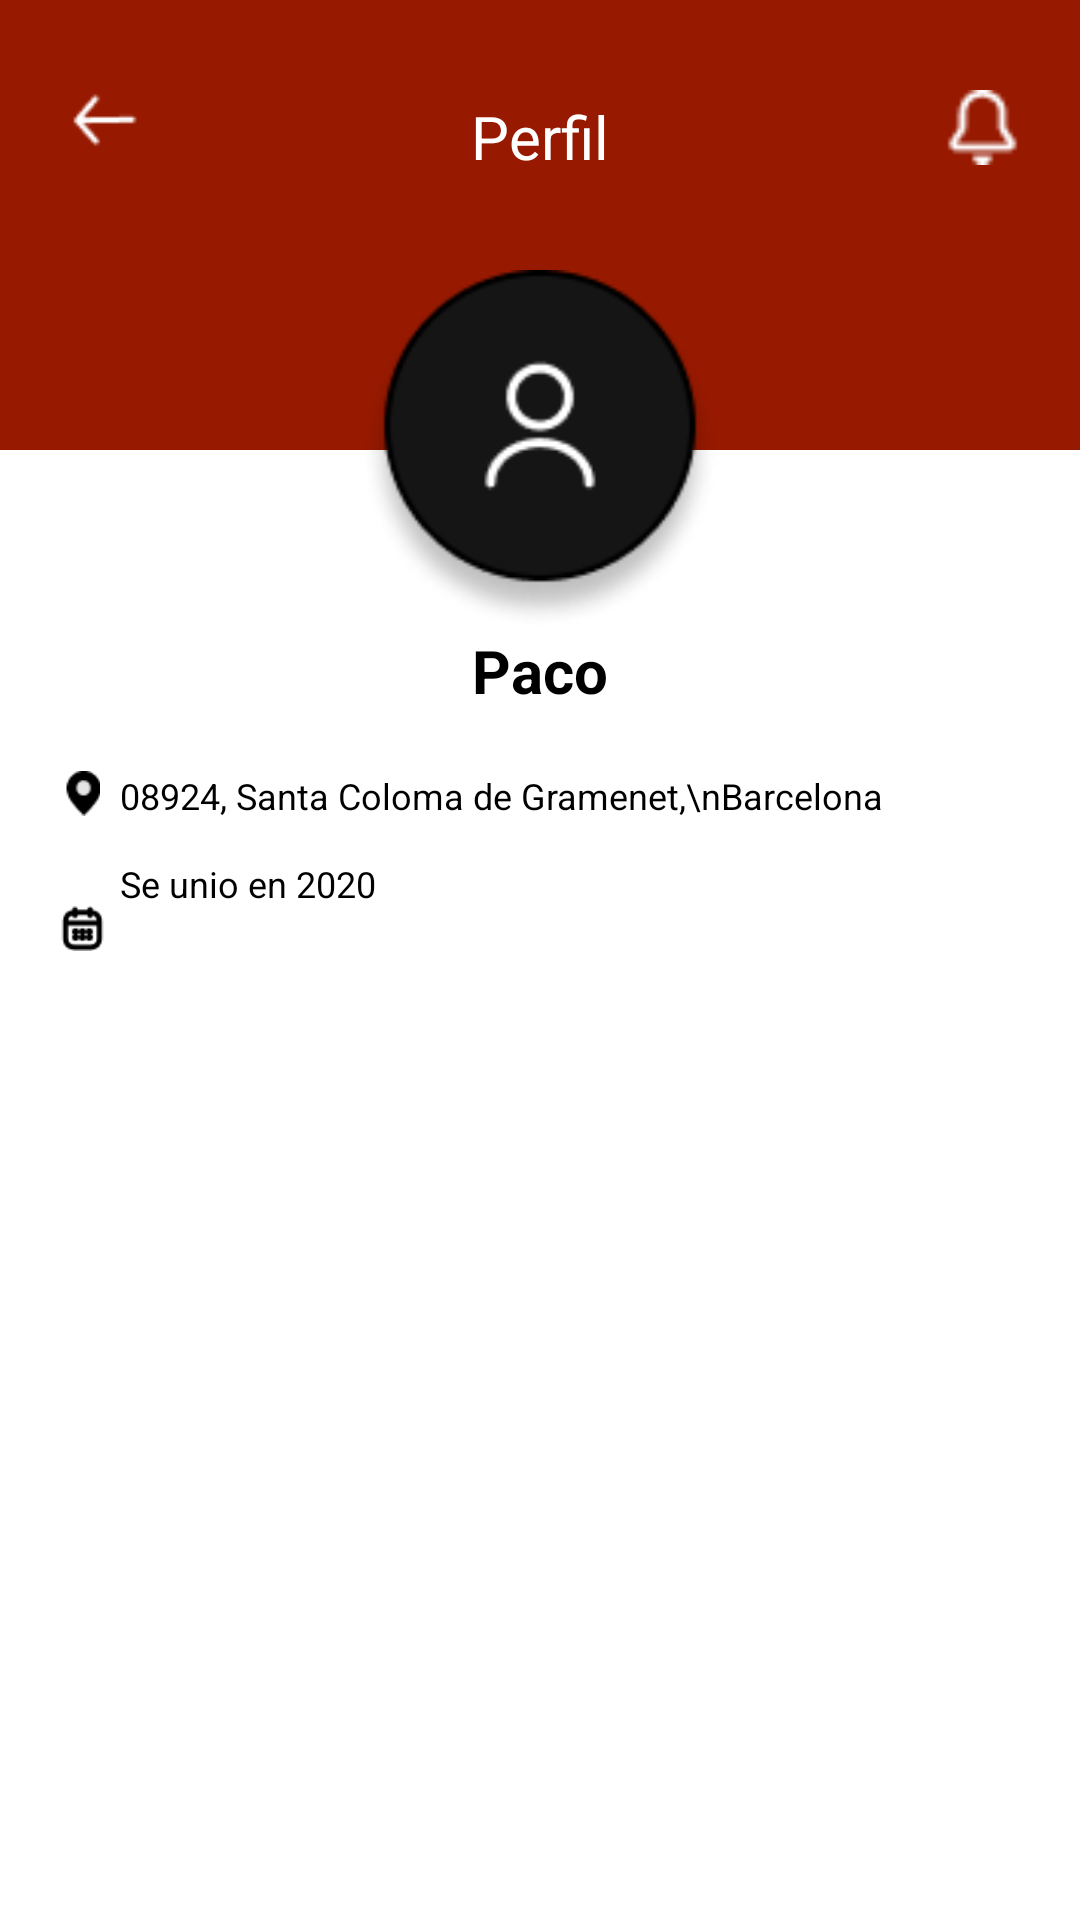

Icon bounding boxes for this 1080 x 1920 phone screenshot, format (x1=x1, y1=y1, x2=x2, y2=y2):
iconocalendario: (x1=62, y1=906, x2=103, y2=951)
iconocampanita: (x1=947, y1=90, x2=1018, y2=165)
iconoubicacion: (x1=66, y1=771, x2=100, y2=816)
volveratrasperfil: (x1=73, y1=94, x2=137, y2=146)
